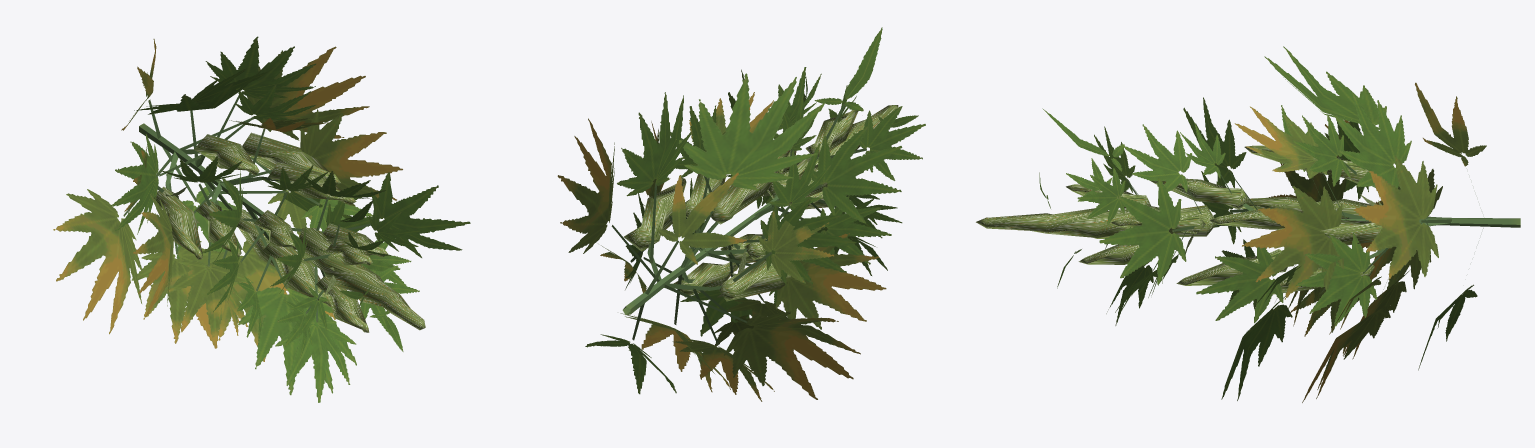
Rendered from p_haze_ripe_c0_cards.obj.
3 views of the same model, side by side, from view 1: azimuth 30°, elevation 25°; view 2: azimuth 150°, elevation 25°; view 3: azimuth 270°, elevation 25° (orthographic). The views are drawn at different scales.
Size of the model in its own units: 1.64 by 1.53 by 2.03.
1 material, 1 textured.
